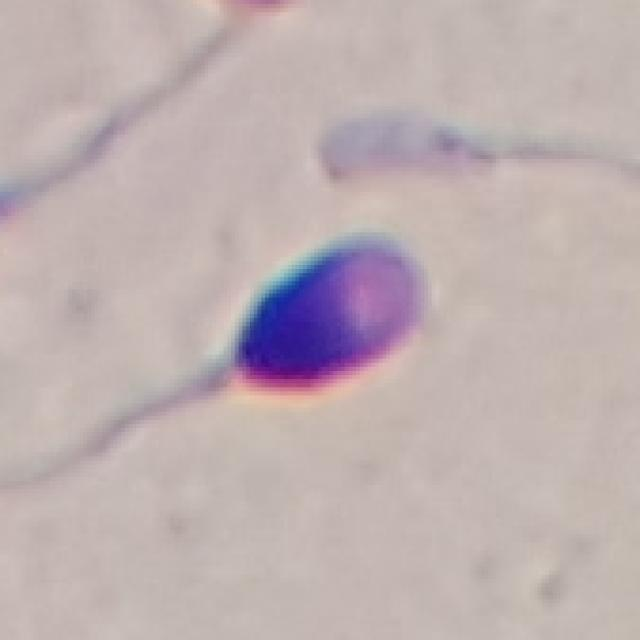normal sperm: (140, 237, 426, 422)
